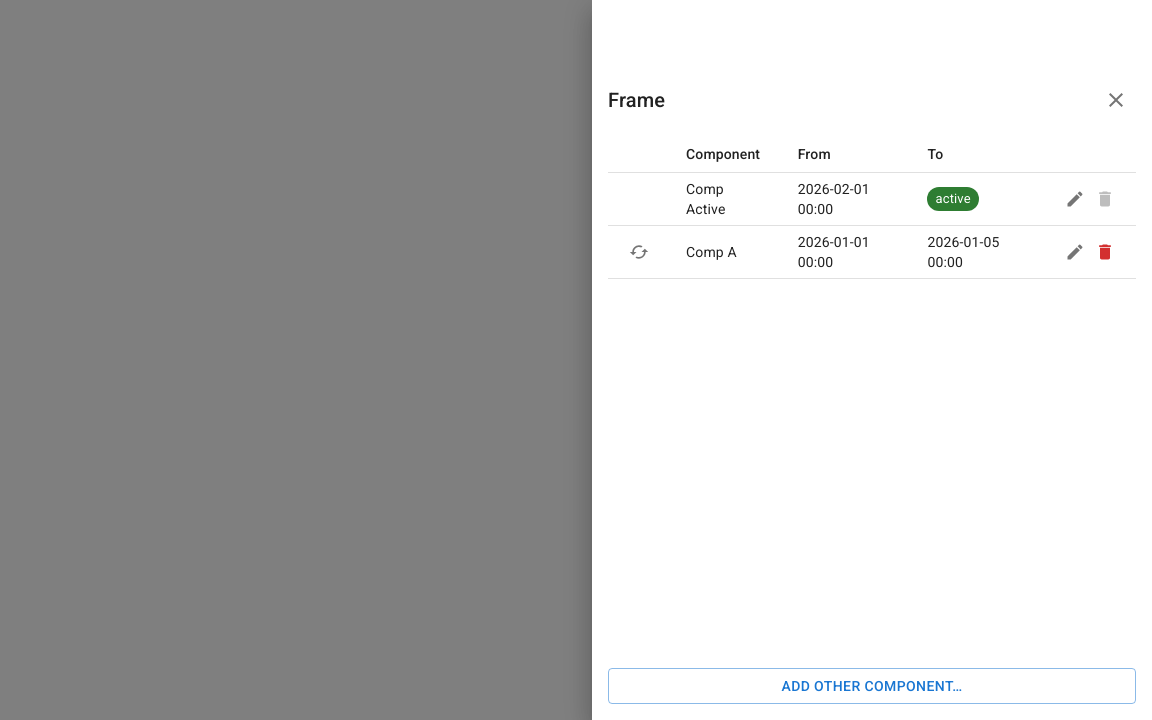
it: SlotMemberHistoryDrawer › clicking re-use opens the re-use dialog with a warning when the slot is occupied
The image size is (1152, 720).
What coordinates should you click on to do the following:
click the button named "re-use"
I would click on:
 (639, 252)
Its box is left=624, top=237, right=654, bottom=267.
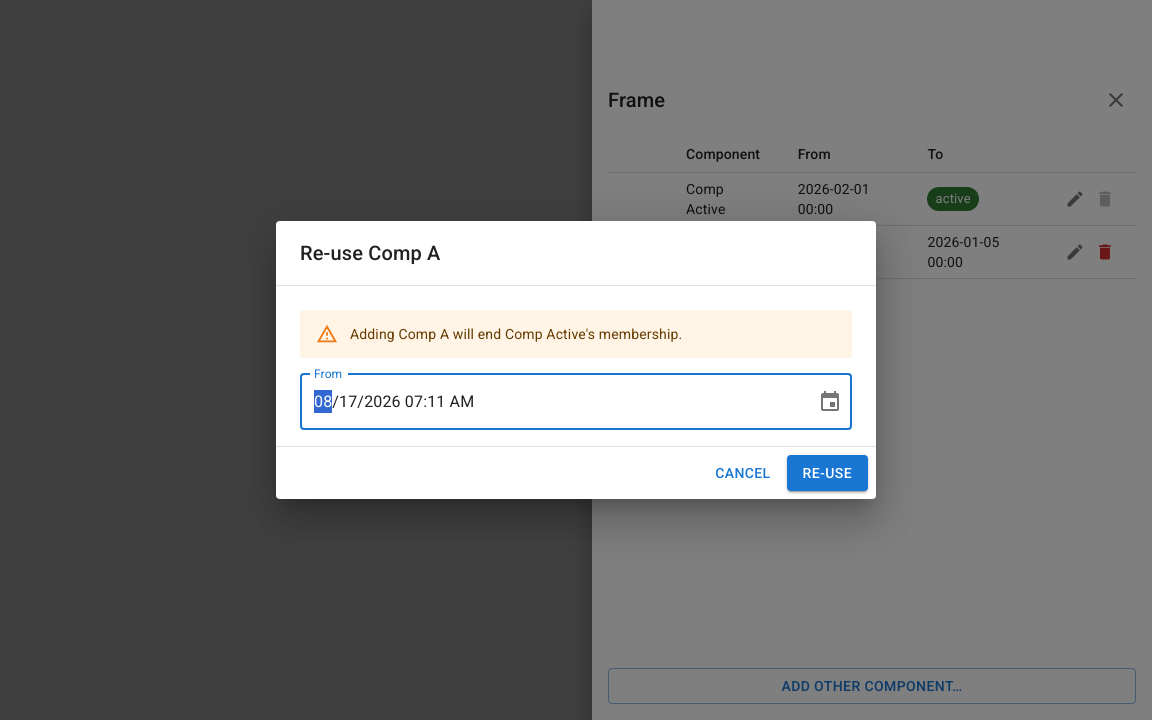
Result: the heading "Re-use Comp A" is shown at left=300, top=241, right=440, bottom=265
Result: the text "Adding Comp A will end Comp Active's membership." is shown at left=350, top=326, right=682, bottom=342
